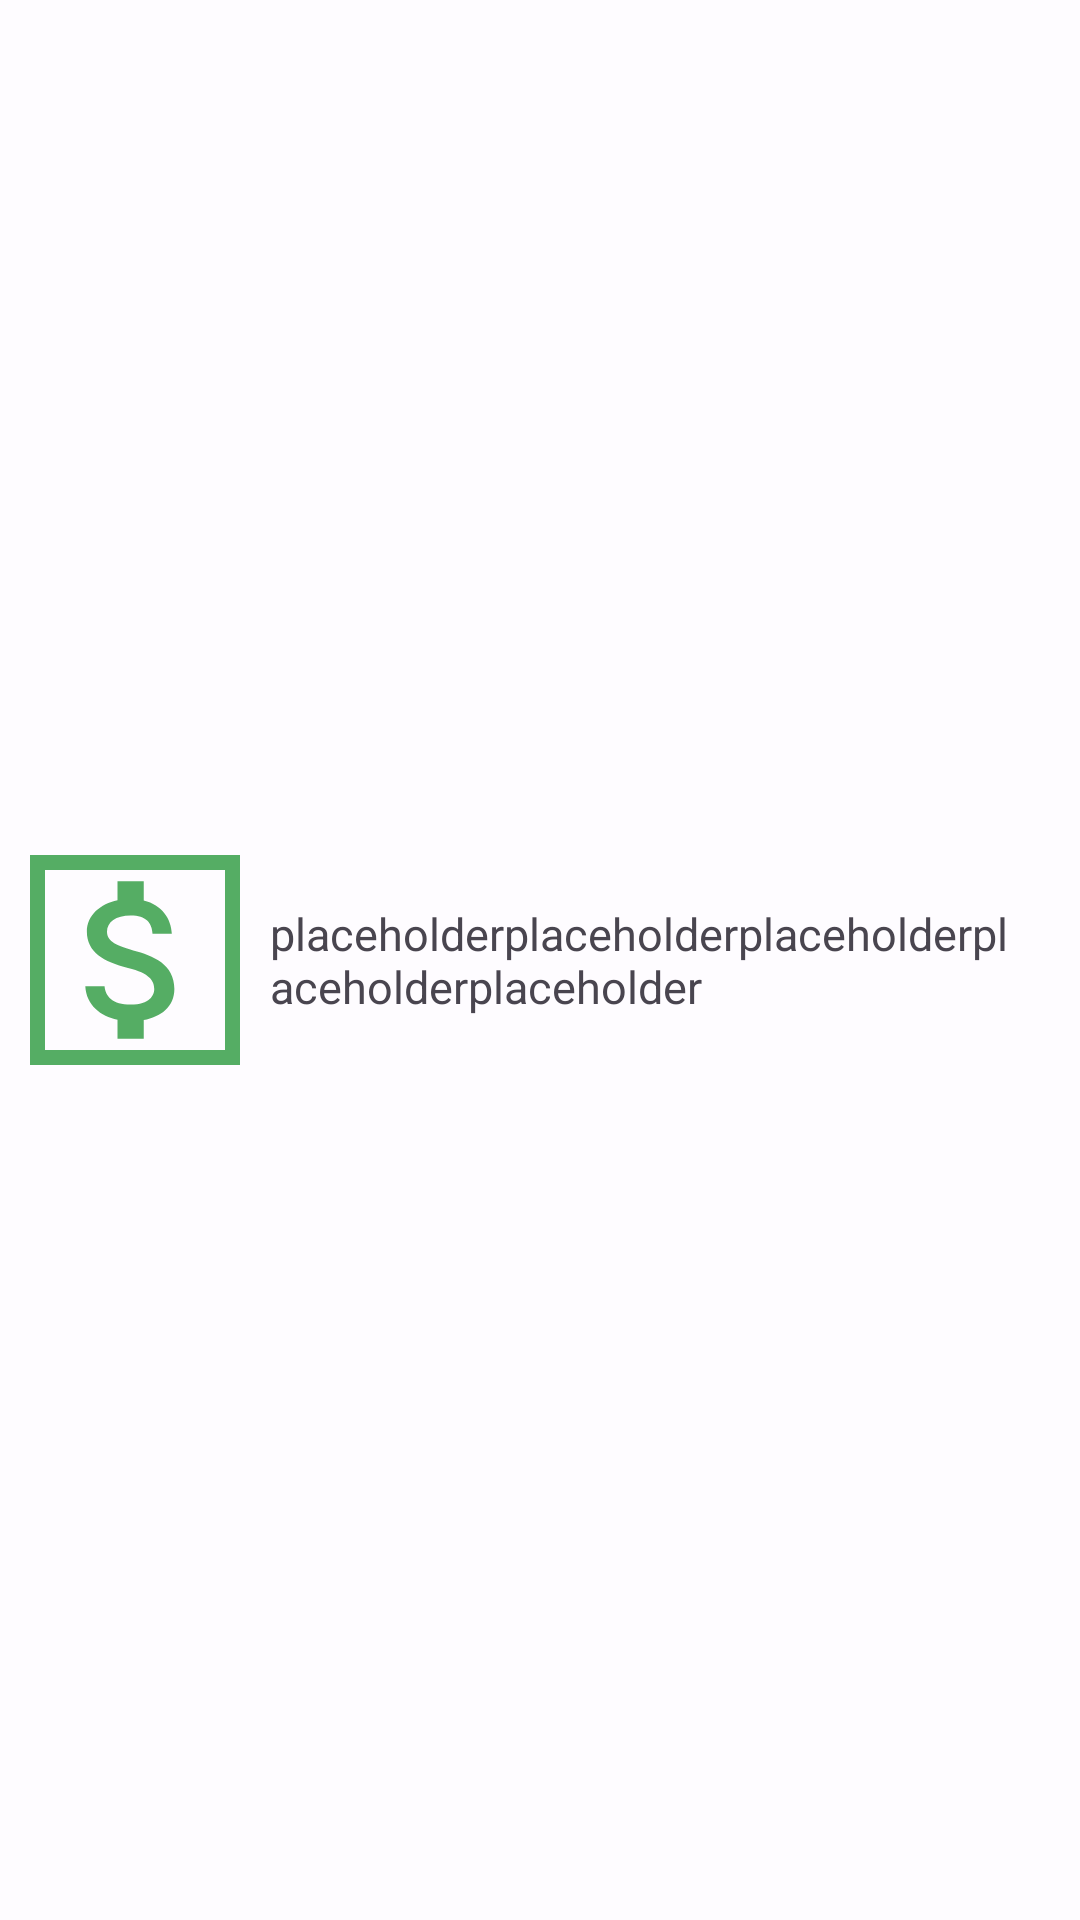

Icons on this 1080w x 1920h Android screen, each with its box as [left=x1, top=y1, right=x2, bottom=y2]:
attach money: [left=30, top=855, right=240, bottom=1065]
